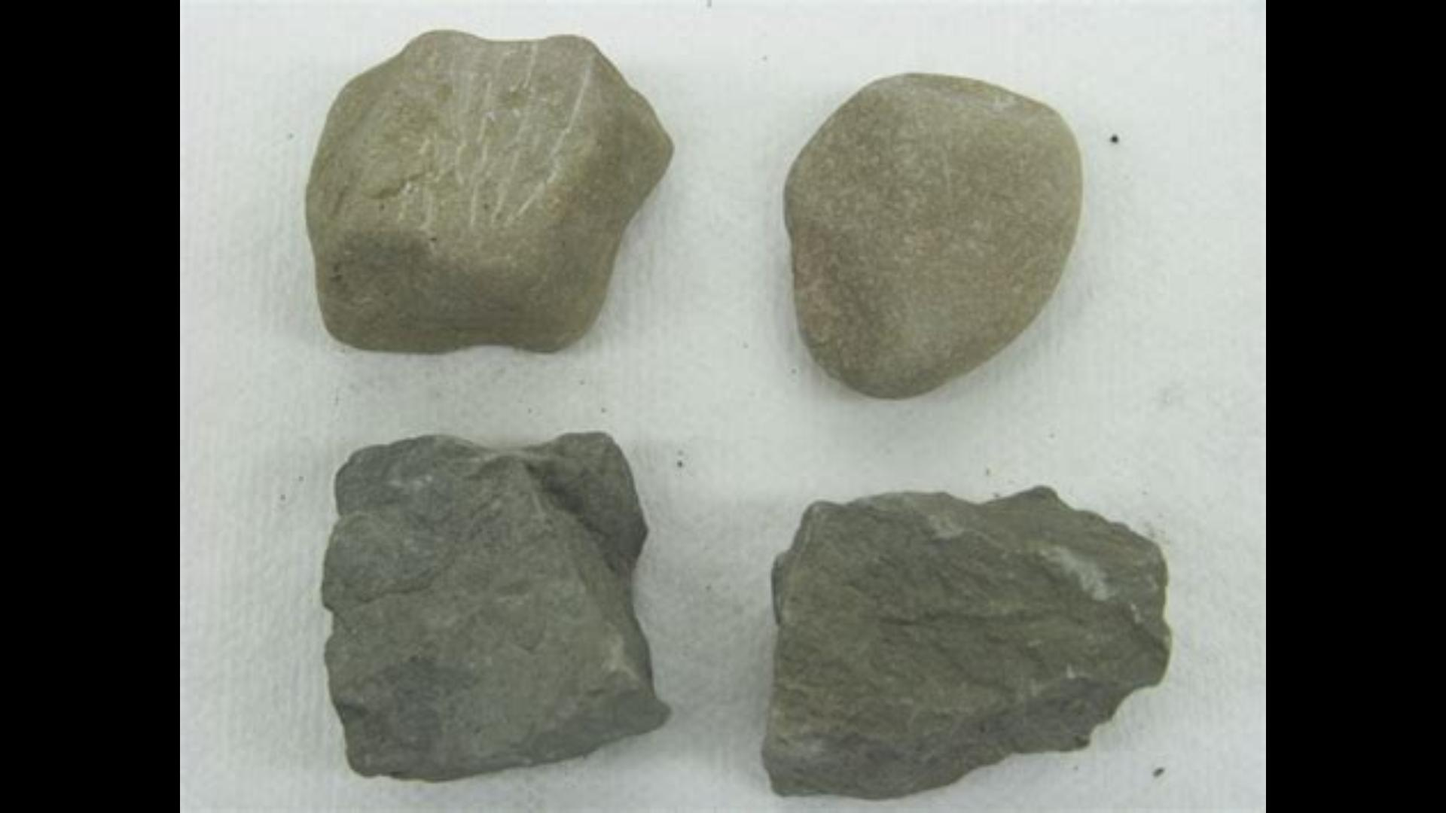rock: (764, 486, 1172, 797), (321, 431, 670, 776), (307, 32, 674, 351), (786, 77, 1083, 401)
